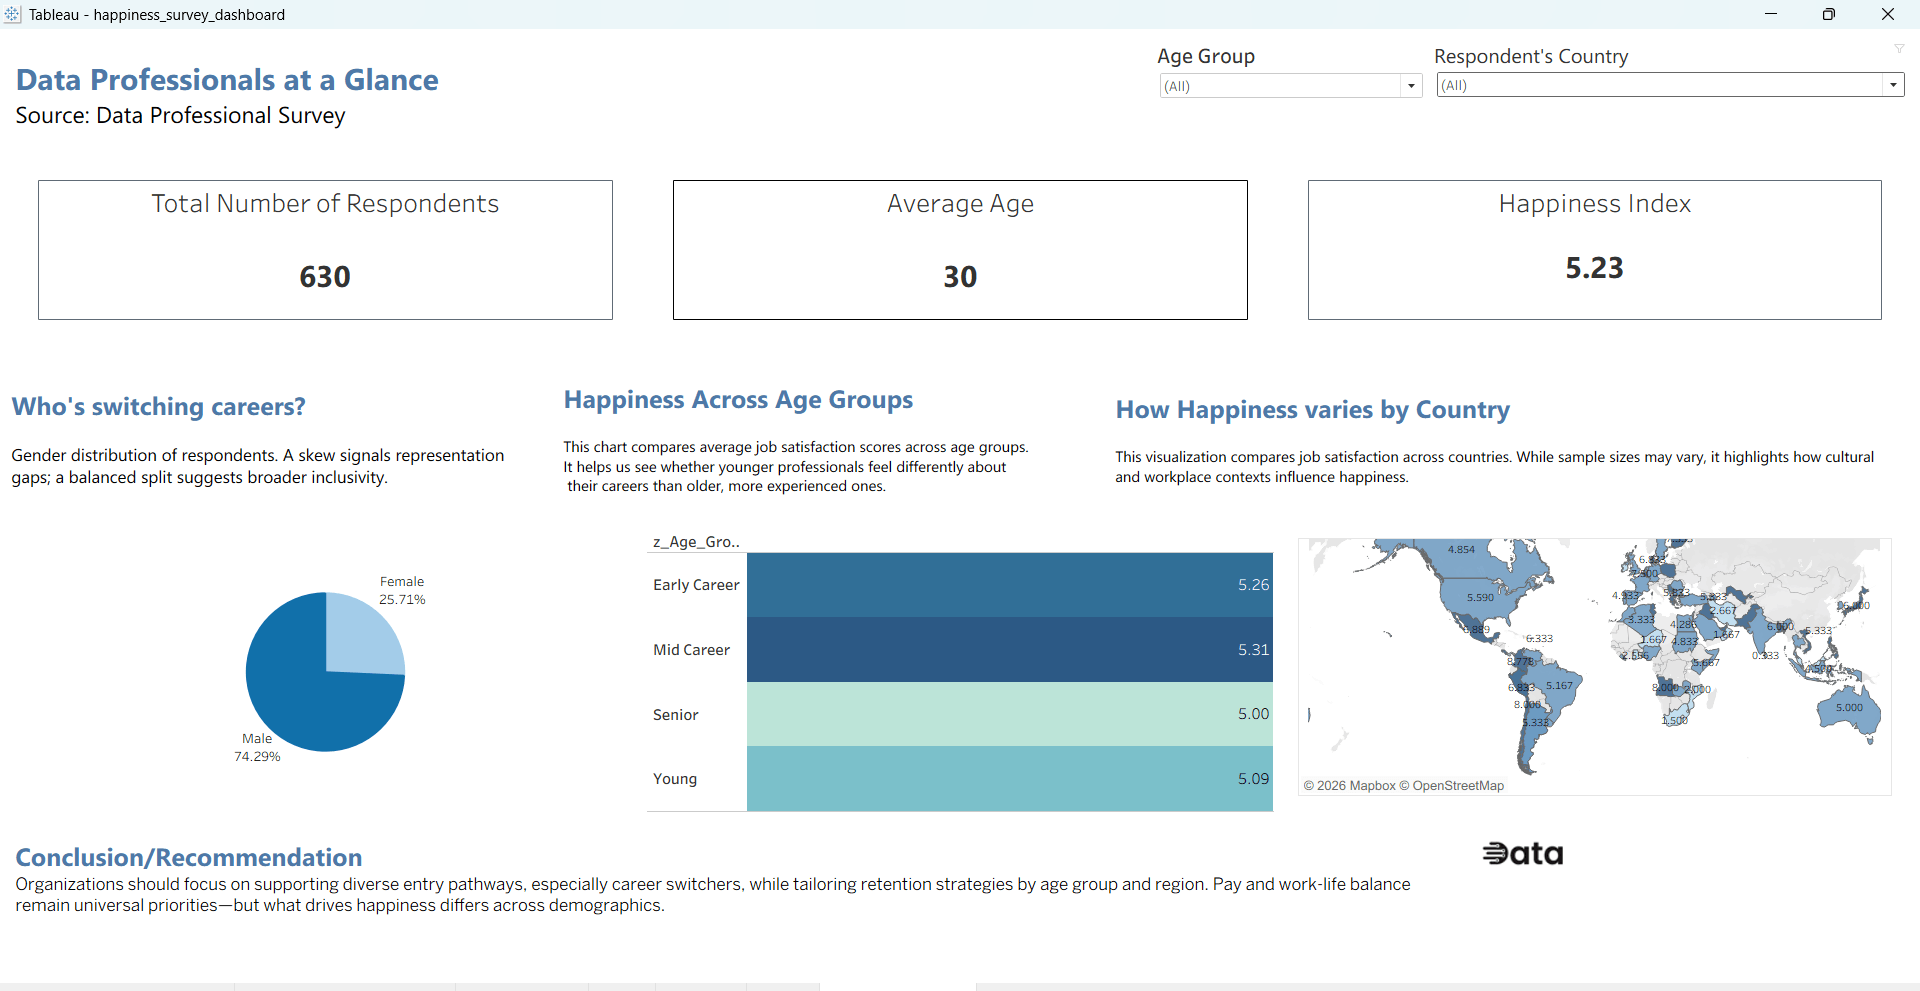

The page's visual inventory and layout, read from the dashboard file:
{"tool":"tableau","page":{"name":"Dashboard Demo","canvas":[1000,1000],"units":"permille","ordinal":0},"visuals":[{"type":"text","box":[4.8,9.4,532.3,118.4]},{"type":"filter","title":"Total Number of Respondents ","param":"[federated.09vcrzj1xijcaw0zkc6ep0318y0w].[none:Calculation_2688084250394624:nk]","box":[537.1,9.4,167.2,118.4]},{"type":"filter","title":"Country","param":"[federated.09vcrzj1xijcaw0zkc6ep0318y0w].[none:Calculation_2688084275900419:nk]","box":[704.3,9.4,290.9,118.4]},{"type":"worksheet","title":"Total Number of Respondents ","mark":"Automatic","box":[4.8,128.1,330.1,209.2]},{"type":"worksheet","title":"Average Age of Respondents","mark":"Automatic","box":[334.9,128.1,330.1,209.2]},{"type":"worksheet","title":"Happiness Index","mark":"Automatic","box":[665.1,128.1,330.1,209.2]},{"type":"text","box":[4.8,337,333.1,185.8]},{"type":"text","box":[338,337,333.1,185.8]},{"type":"text","box":[671.1,337,324.1,185.8]},{"type":"worksheet","title":"Gender","mark":"Pie","box":[4.8,522.9,330.1,300.8]},{"type":"worksheet","title":"Age Group","mark":"Square","rows":["Calculation_2688084250394624"],"box":[334.9,522.9,330.1,300.8]},{"type":"worksheet","title":"Country","mark":"Automatic","box":[665.1,522.9,330.1,300.8]},{"type":"text","box":[4.8,824,870.9,146.9]},{"type":"image","param":"Image/image (20).png","box":[875.7,824,88.1,146.9]}]}

Visuals, with their boxes on the dashboard's canvas, which has no fixed pixel size, in thousandths of its width and height (x1, y1, x2, y2). These are canvas units, not pixel positions in the 1920x991 screenshot, which may show the page scaled, cropped or inside an application window:
text: bbox(5, 9, 537, 128)
"Total Number of Respondents " filter: bbox(537, 9, 704, 128)
"Country" filter: bbox(704, 9, 995, 128)
"Total Number of Respondents " worksheet: bbox(5, 128, 335, 337)
"Average Age of Respondents" worksheet: bbox(335, 128, 665, 337)
"Happiness Index" worksheet: bbox(665, 128, 995, 337)
text: bbox(5, 337, 338, 523)
text: bbox(338, 337, 671, 523)
text: bbox(671, 337, 995, 523)
"Gender" worksheet (Pie marks): bbox(5, 523, 335, 824)
"Age Group" worksheet (Square marks): bbox(335, 523, 665, 824)
"Country" worksheet: bbox(665, 523, 995, 824)
text: bbox(5, 824, 876, 971)
image: bbox(876, 824, 964, 971)
